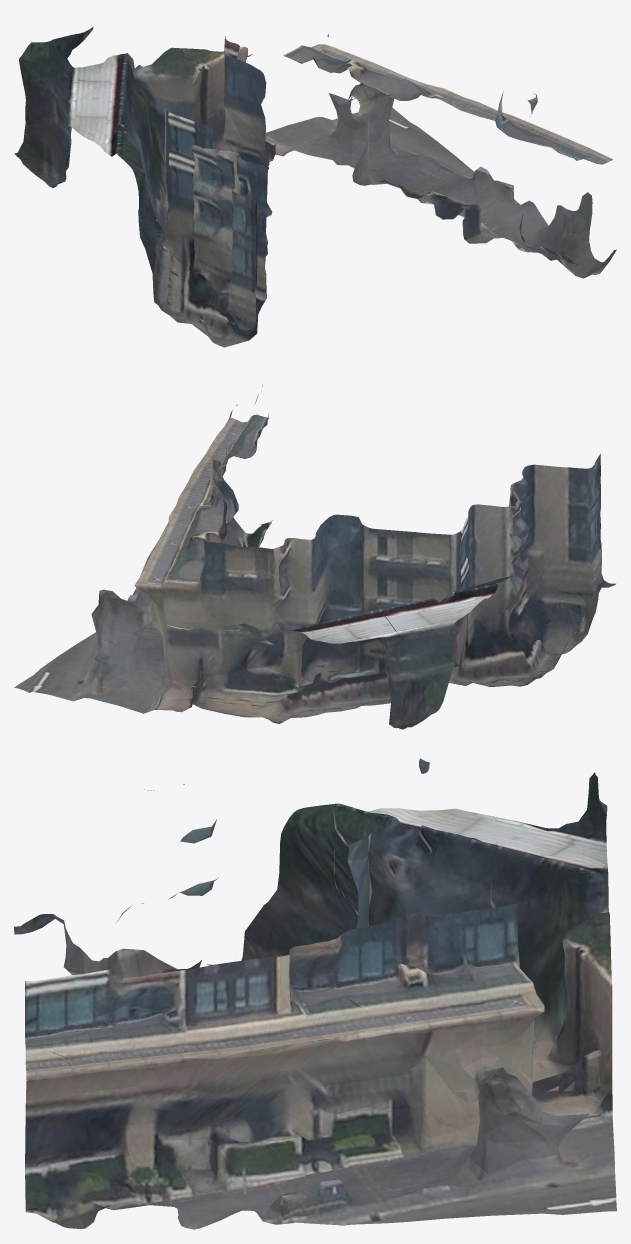
File: Tile_+012_+009_L20_000003020.glb
The picture shows the model from 3 angles, top to bottom: view 1: azimuth 30°, elevation 25°; view 2: azimuth 150°, elevation 25°; view 3: azimuth 270°, elevation 25°; orthographic projection. The views are drawn at different scales.
Parts seen in each view (by area): view 1: rtc; view 2: rtc; view 3: rtc.
Boxes of the visible parts, box(x1,y1,x2,y2) form: rtc: box(14, 26, 616, 347); rtc: box(14, 385, 615, 729); rtc: box(14, 758, 616, 1229).
Size of the model in its own units: 32.13 by 13.53 by 32.13.
1 material, 1 textured.
